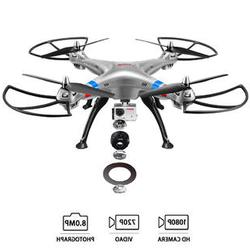drone: (3, 35, 249, 160)
